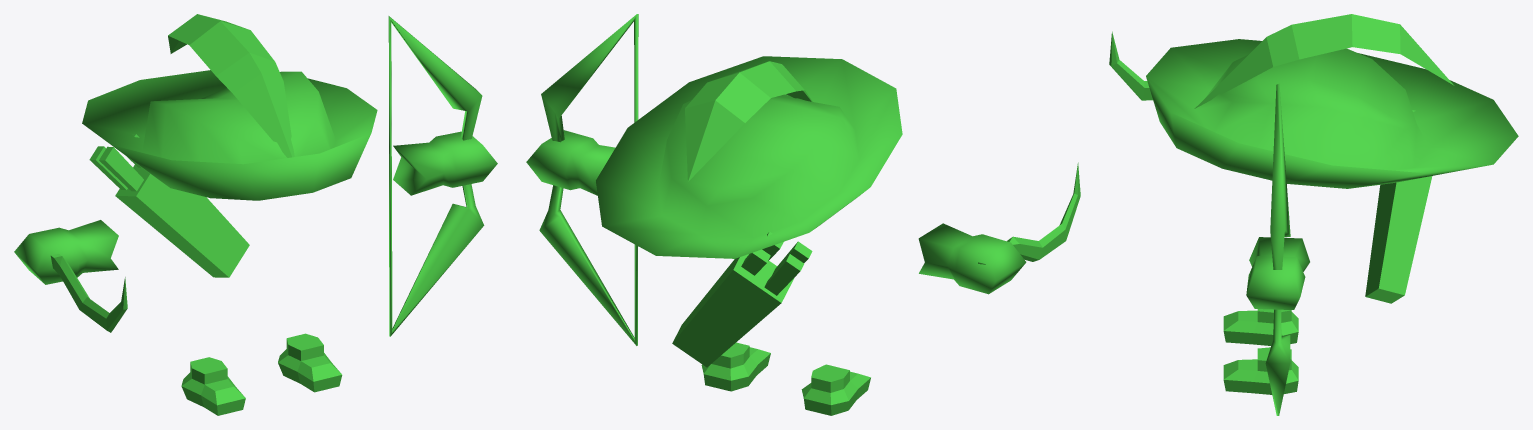
The model's file is Archer.fbx.
3 renders of one model, left to right at view 1: azimuth 30°, elevation 25°; view 2: azimuth 150°, elevation 25°; view 3: azimuth 270°, elevation 25°, orthographic. The views are drawn at different scales.
Visible parts, largest first — view 1: Hat, Vert, LWeapon, LGlove, RGlove, RShoes, LShoes, RWeapon; view 2: Hat, Vert, LWeapon, RGlove, LGlove, RShoes, LShoes, RWeapon; view 3: Hat, Vert, LWeapon, LGlove, RShoes, LShoes, RWeapon.
Boxes of the visible parts, x1,y1,x2,y2 form: Hat: [82, 14, 377, 200]; Vert: [89, 134, 249, 277]; LWeapon: [388, 16, 484, 336]; LGlove: [393, 131, 497, 195]; RGlove: [14, 220, 118, 284]; RShoes: [181, 357, 245, 415]; LShoes: [278, 333, 342, 392]; RWeapon: [50, 254, 127, 332]; Hat: [596, 56, 902, 258]; Vert: [672, 231, 812, 367]; LWeapon: [539, 14, 638, 345]; RGlove: [918, 223, 1026, 294]; LGlove: [526, 130, 615, 195]; RShoes: [801, 364, 870, 415]; LShoes: [701, 342, 770, 391]; RWeapon: [978, 162, 1080, 264]; Hat: [1146, 14, 1518, 188]; Vert: [1365, 110, 1432, 303]; LWeapon: [1265, 83, 1290, 415]; LGlove: [1246, 237, 1309, 309]; RShoes: [1223, 309, 1298, 345]; LShoes: [1223, 347, 1298, 394]; RWeapon: [1109, 31, 1152, 100].
Size of the model in its own units: 3.29 by 2.29 by 2.44.
